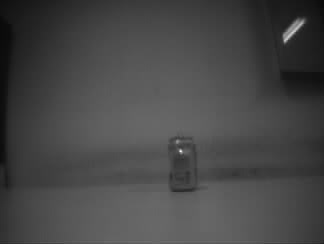Tin can: (167, 132, 199, 192)
